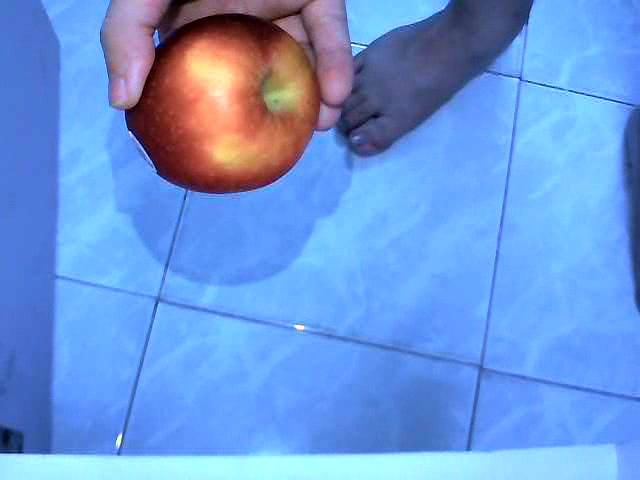apple: (122, 11, 322, 196)
